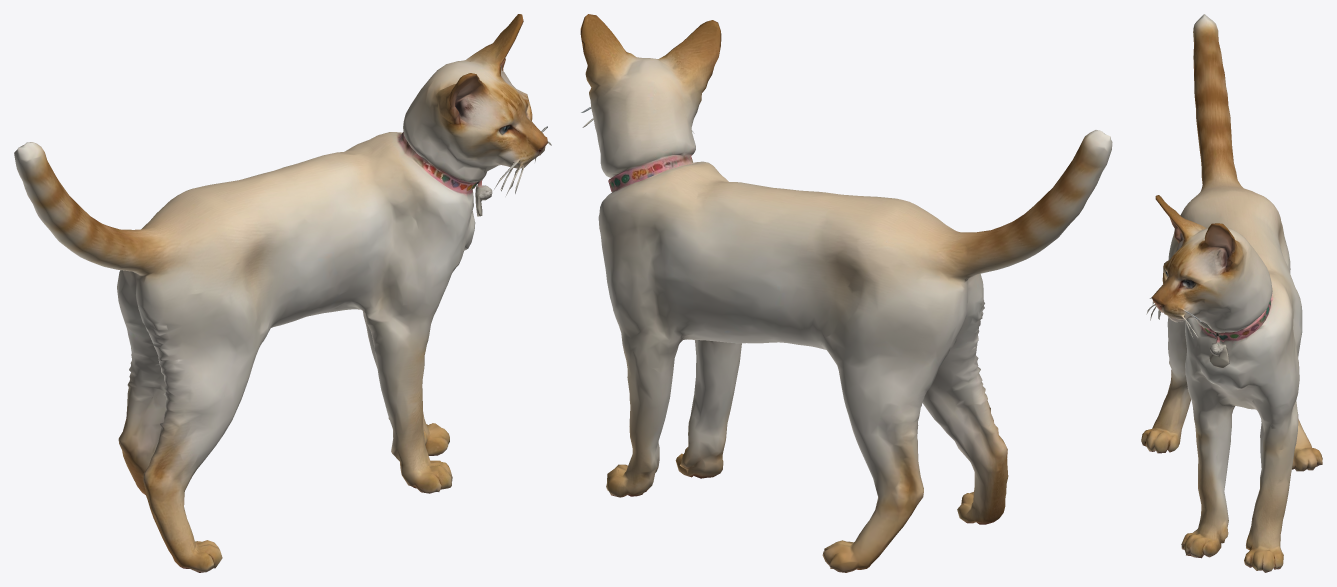
Rendered from PEEPEECAT.glb.
3 renders of one model, left to right at view 1: azimuth 30°, elevation 25°; view 2: azimuth 150°, elevation 25°; view 3: azimuth 270°, elevation 25°, orthographic. The views are drawn at different scales.
Parts seen in each view (by area): view 1: tripo_node_ad0b9a21-f128-483e-b4dc-cfbe9ca41341; view 2: tripo_node_ad0b9a21-f128-483e-b4dc-cfbe9ca41341; view 3: tripo_node_ad0b9a21-f128-483e-b4dc-cfbe9ca41341.
Boxes of the visible parts, x1,y1,x2,y2 form: tripo_node_ad0b9a21-f128-483e-b4dc-cfbe9ca41341: [14, 14, 551, 572]; tripo_node_ad0b9a21-f128-483e-b4dc-cfbe9ca41341: [580, 14, 1112, 572]; tripo_node_ad0b9a21-f128-483e-b4dc-cfbe9ca41341: [1141, 14, 1322, 572].
Size of the model in its own units: 1.26 by 1 by 0.4408.
1 material, 1 textured.
